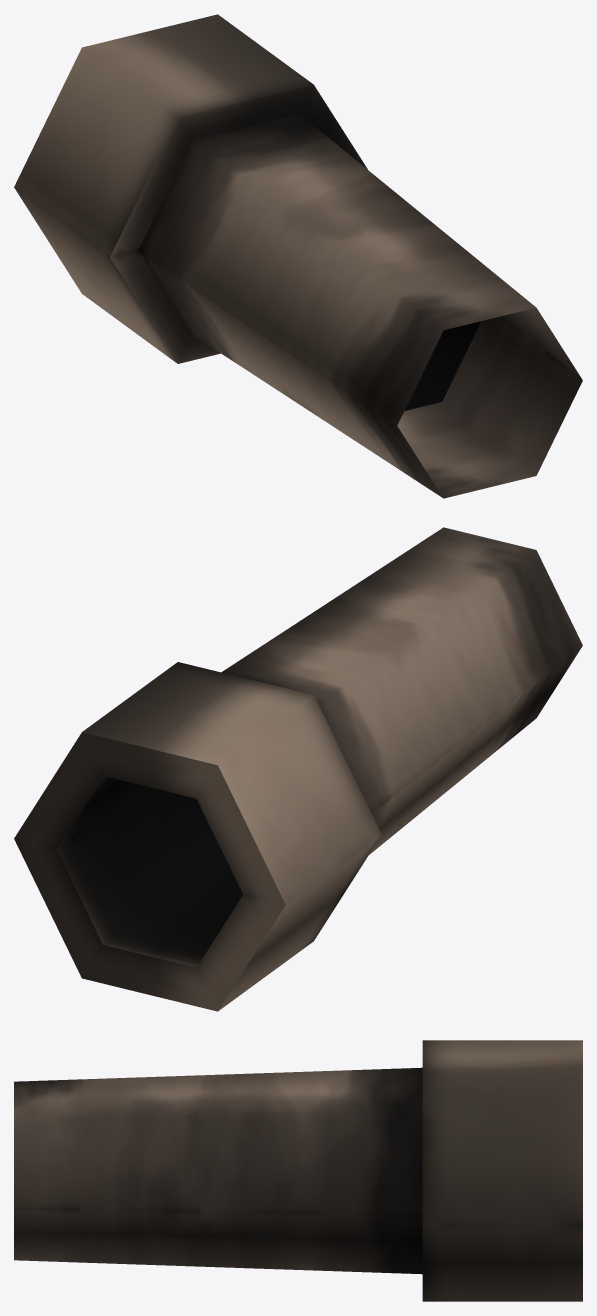
The model's file is PIPE_CONNECTOR.fbx.
3 renders of one model, top to bottom at view 1: azimuth 30°, elevation 25°; view 2: azimuth 150°, elevation 25°; view 3: azimuth 270°, elevation 25°, orthographic. The views are drawn at different scales.
Visible parts, largest first — view 1: polySurface2; view 2: polySurface2; view 3: polySurface2.
Part boxes in pixels (x1=…): polySurface2: x1=14, y1=14, x2=582, y2=498; polySurface2: x1=14, y1=527, x2=582, y2=1011; polySurface2: x1=14, y1=1040, x2=582, y2=1301.
Bounding box in the file's own units: 2.31 × 2 × 5.01.
